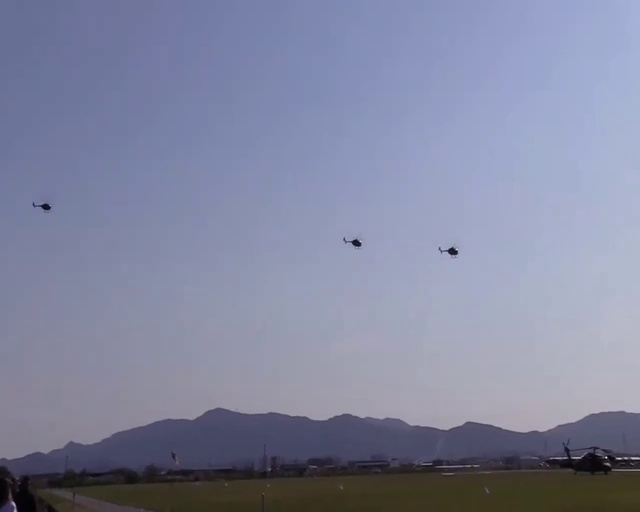HELICOPTER: (437, 244, 459, 257)
